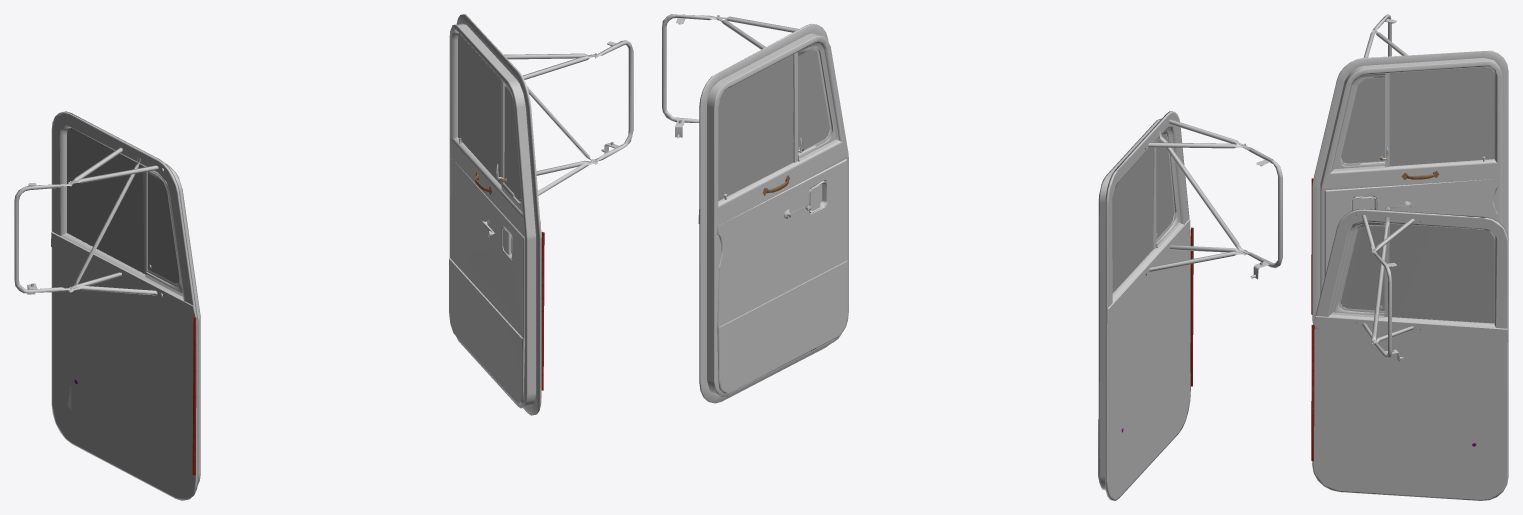
The model's file is DoorSeparated.fbx.
3 renders of one model, left to right at view 1: azimuth 30°, elevation 25°; view 2: azimuth 150°, elevation 25°; view 3: azimuth 270°, elevation 25°, orthographic. The views are drawn at different scales.
Parts seen in each view (by area): view 1: DoorRight, DoorLeft, WindowRight, WindoLeftt; view 2: DoorLeft, DoorRight, WindoLeftt, WindowRight; view 3: DoorLeft, DoorRight, WindowRight, WindoLeftt.
Boxes of the visible parts, x1=… form: DoorRight: x1=14, y1=111, x2=200, y2=500; DoorLeft: x1=449, y1=14, x2=633, y2=415; WindowRight: x1=67, y1=128, x2=179, y2=283; WindoLeftt: x1=458, y1=33, x2=521, y2=199; DoorLeft: x1=662, y1=14, x2=848, y2=403; DoorRight: x1=1098, y1=111, x2=1282, y2=500; WindoLeftt: x1=718, y1=50, x2=829, y2=200; WindowRight: x1=1112, y1=135, x2=1174, y2=293; DoorLeft: x1=1311, y1=209, x2=1508, y2=500; DoorRight: x1=1311, y1=14, x2=1508, y2=324; WindowRight: x1=1341, y1=67, x2=1494, y2=166; WindoLeftt: x1=1341, y1=223, x2=1494, y2=323.
Size of the model in its own units: 271 by 138 by 87.09.
